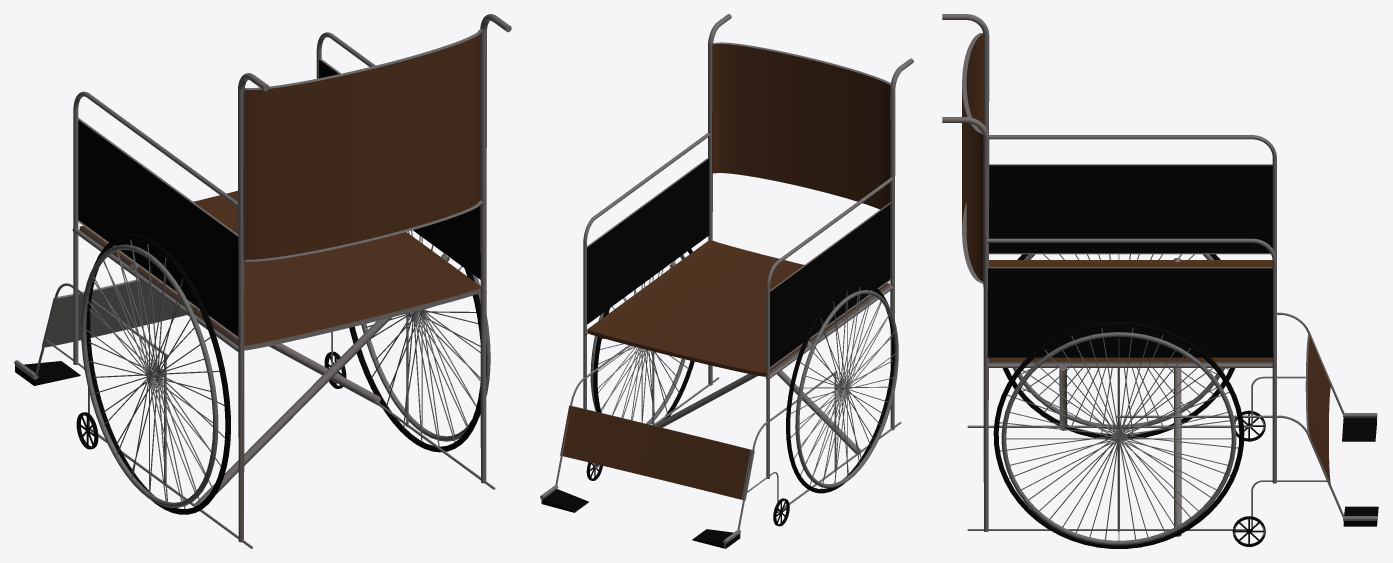
File: Tekerlekli_Sandalye5.fbx
The picture shows the model from 3 angles, left to right: view 1: azimuth 30°, elevation 25°; view 2: azimuth 150°, elevation 25°; view 3: azimuth 270°, elevation 25°; orthographic projection. The views are drawn at different scales.
Visible parts, largest first — view 1: Cylinder, Cylinder.002, Cylinder.003, Cylinder.035, Sphere; view 2: Cylinder, Cylinder.002, Cylinder.003, Cylinder.035, Sphere; view 3: Cylinder, Cylinder.002, Cylinder.035, Cylinder.003, Sphere.
Part boxes in pixels (x1=…): Cylinder: x1=14, y1=14, x2=511, y2=548; Cylinder.002: x1=81, y1=230, x2=490, y2=508; Cylinder.003: x1=86, y1=233, x2=230, y2=514; Cylinder.035: x1=349, y1=268, x2=487, y2=452; Sphere: x1=76, y1=351, x2=346, y2=449; Cylinder: x1=540, y1=14, x2=913, y2=548; Cylinder.002: x1=590, y1=254, x2=898, y2=488; Cylinder.003: x1=786, y1=282, x2=894, y2=493; Cylinder.035: x1=593, y1=249, x2=694, y2=419; Sphere: x1=586, y1=462, x2=789, y2=526; Cylinder: x1=942, y1=14, x2=1378, y2=536; Cylinder.002: x1=999, y1=254, x2=1238, y2=545; Cylinder.035: x1=993, y1=321, x2=1244, y2=548; Cylinder.003: x1=1002, y1=254, x2=1235, y2=439; Sphere: x1=1232, y1=410, x2=1265, y2=546.
Size of the model in its own units: 338 by 574 by 529.
